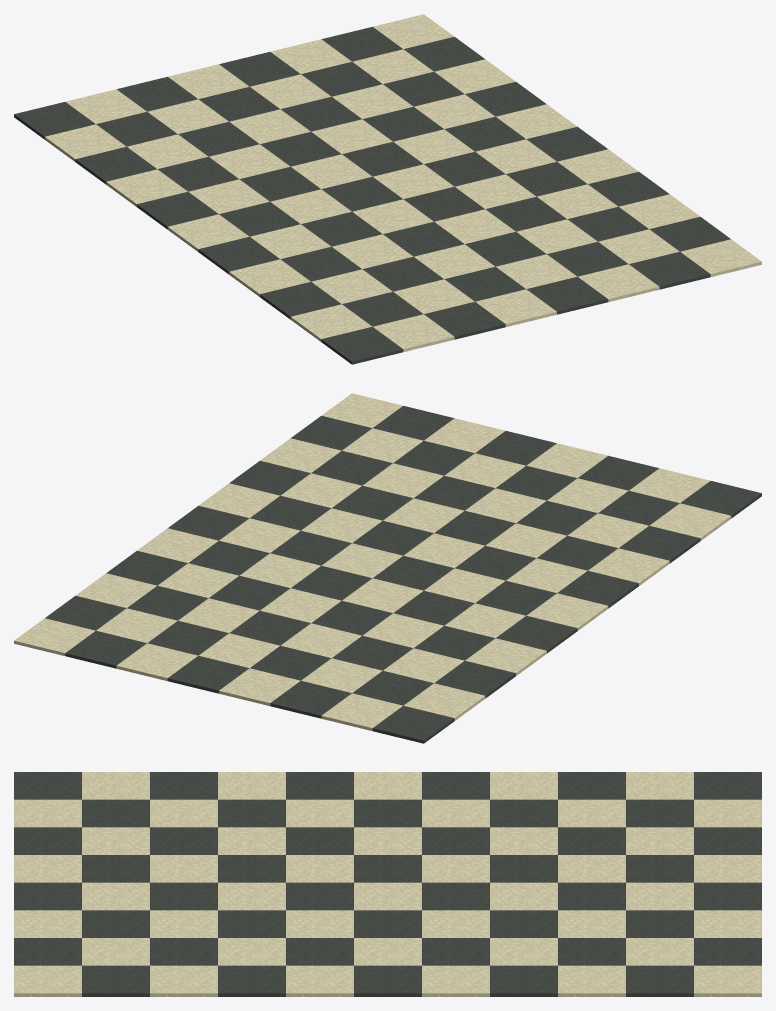
Rendered from alfombra-shaggy-cuadros-verde.glb.
The picture shows the model from 3 angles, top to bottom: view 1: azimuth 30°, elevation 25°; view 2: azimuth 150°, elevation 25°; view 3: azimuth 270°, elevation 25°; orthographic projection. The views are drawn at different scales.
Parts seen in each view (by area): view 1: alfombra-shaggy-cuadros-verde; view 2: alfombra-shaggy-cuadros-verde; view 3: alfombra-shaggy-cuadros-verde.
Part boxes in pixels (x1,y1,x2,y2): alfombra-shaggy-cuadros-verde: (14, 14, 761, 364); alfombra-shaggy-cuadros-verde: (14, 393, 761, 743); alfombra-shaggy-cuadros-verde: (14, 772, 761, 996).
Bounding box in the file's own units: 1.4 × 0.01 × 2.
2 materials, 2 textured.
